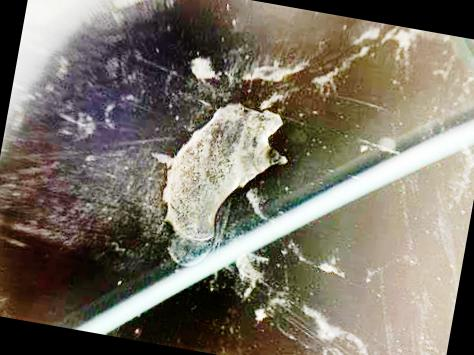Bird Poop: (155, 104, 284, 264), (306, 306, 367, 354), (237, 253, 269, 296), (246, 63, 306, 81), (314, 61, 346, 86), (385, 28, 420, 49), (246, 189, 269, 220), (192, 57, 215, 78), (354, 28, 380, 42), (261, 92, 284, 107), (349, 47, 368, 62), (319, 263, 340, 272), (256, 309, 267, 320)
